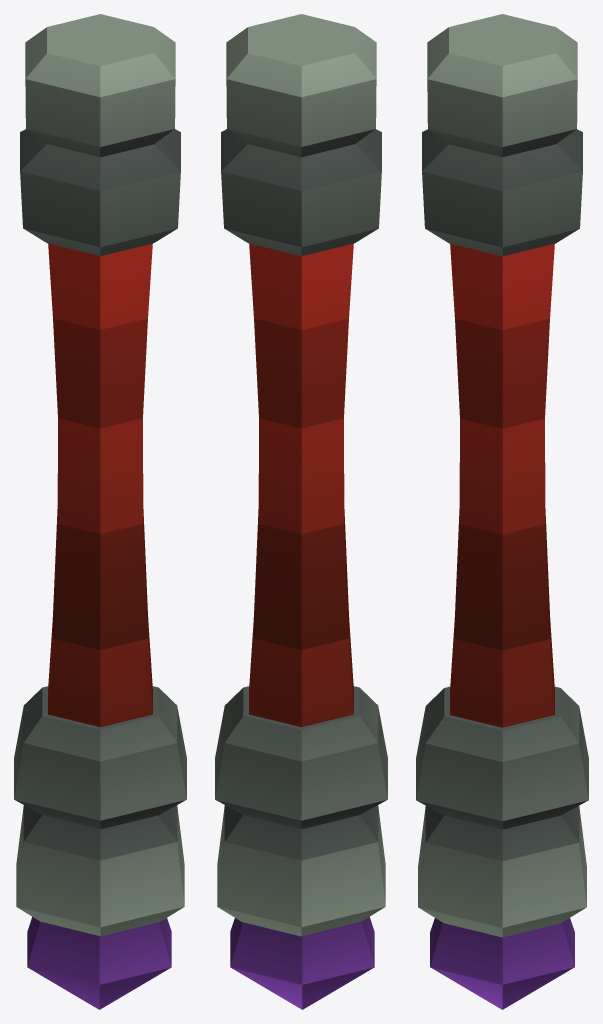
Rendered from short-handle_002.fbx.
3 views of the same model, side by side, from view 1: azimuth 30°, elevation 25°; view 2: azimuth 150°, elevation 25°; view 3: azimuth 270°, elevation 25° (orthographic).
Visible parts, largest first — view 1: short-handle.002; view 2: short-handle.002; view 3: short-handle.002.
Boxes of the visible parts, x1,y1,x2,y2 form: short-handle.002: [14, 14, 186, 1009]; short-handle.002: [215, 14, 387, 1009]; short-handle.002: [416, 14, 588, 1009].
Bounding box in the file's own units: 8.22 × 44.07 × 7.12.
